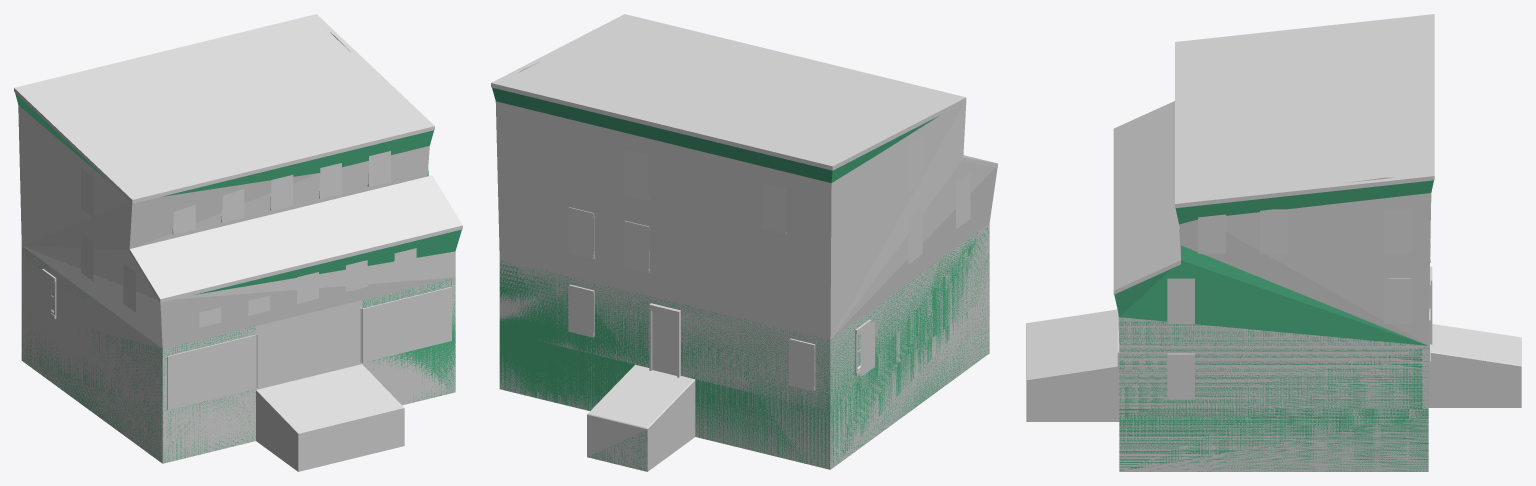
File: eca_bld_shop_town_bwhite.dae
The picture shows the model from 3 angles, left to right: view 1: azimuth 30°, elevation 25°; view 2: azimuth 150°, elevation 25°; view 3: azimuth 270°, elevation 25°; orthographic projection. The views are drawn at different scales.
Visible parts, largest first — view 1: ind_bld_a400, ind_bld_a100, ind_bld_a60, Colmesh-1; view 2: ind_bld_a60, ind_bld_a100, ind_bld_a400, Colmesh-1; view 3: ind_bld_a400, ind_bld_a100, Colmesh-1, ind_bld_a60.
Part boxes in pixels (x1,y1,x2,y2): ind_bld_a400: (14,14,462,463); ind_bld_a100: (14,88,462,471); ind_bld_a60: (18,105,455,389); Colmesh-1: (15,93,461,463); ind_bld_a60: (495,101,997,410); ind_bld_a100: (491,83,997,471); ind_bld_a400: (491,14,997,471); Colmesh-1: (492,87,989,471); ind_bld_a400: (1026,14,1521,471); ind_bld_a100: (1026,176,1521,471); Colmesh-1: (1114,180,1471,471); ind_bld_a60: (1118,193,1431,345).
Bounding box in the file's own units: 12.4 × 16.01 × 10.65.
